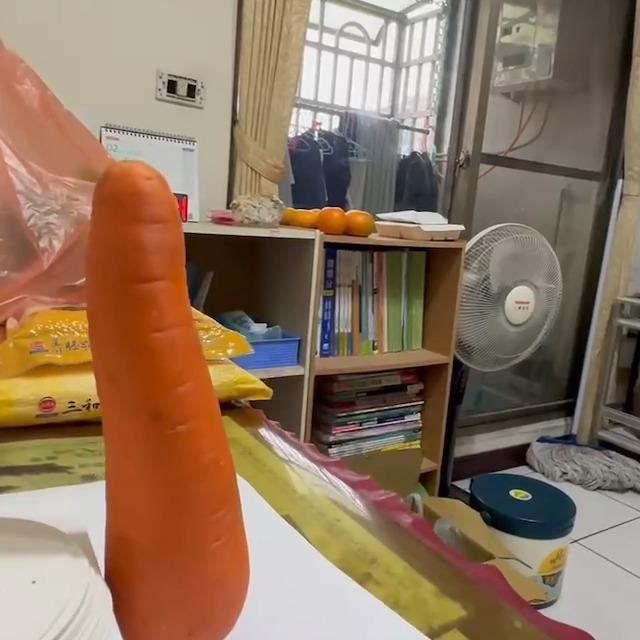carrot: (88, 159, 251, 640)
